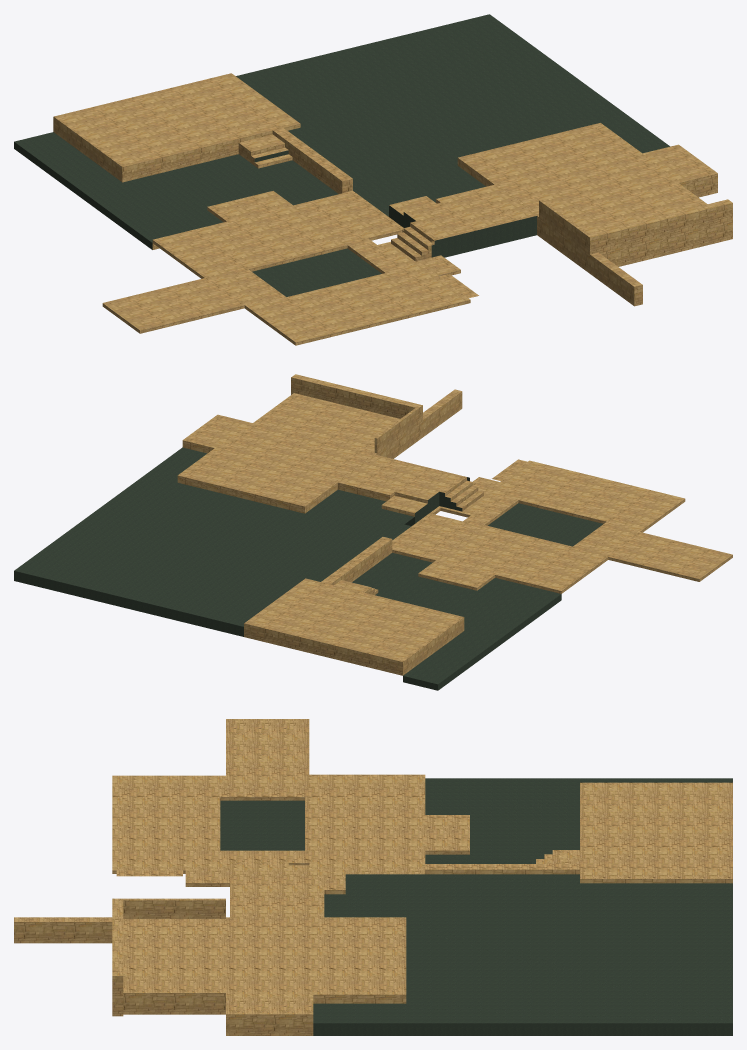
Rendered from pisos.glb.
3 views of the same model, one above another, from view 1: azimuth 30°, elevation 25°; view 2: azimuth 150°, elevation 25°; view 3: azimuth 270°, elevation 25° (orthographic). The views are drawn at different scales.
Visible parts, largest first — view 1: 15280; view 2: 15280; view 3: 15280.
Boxes of the visible parts, x1,y1,x2,y2 form: 15280: (14, 14, 732, 345); 15280: (14, 374, 732, 690); 15280: (14, 719, 732, 1035).
Size of the model in its own units: 27.1 by 1.94 by 26.3.
267 materials, 267 textured.
